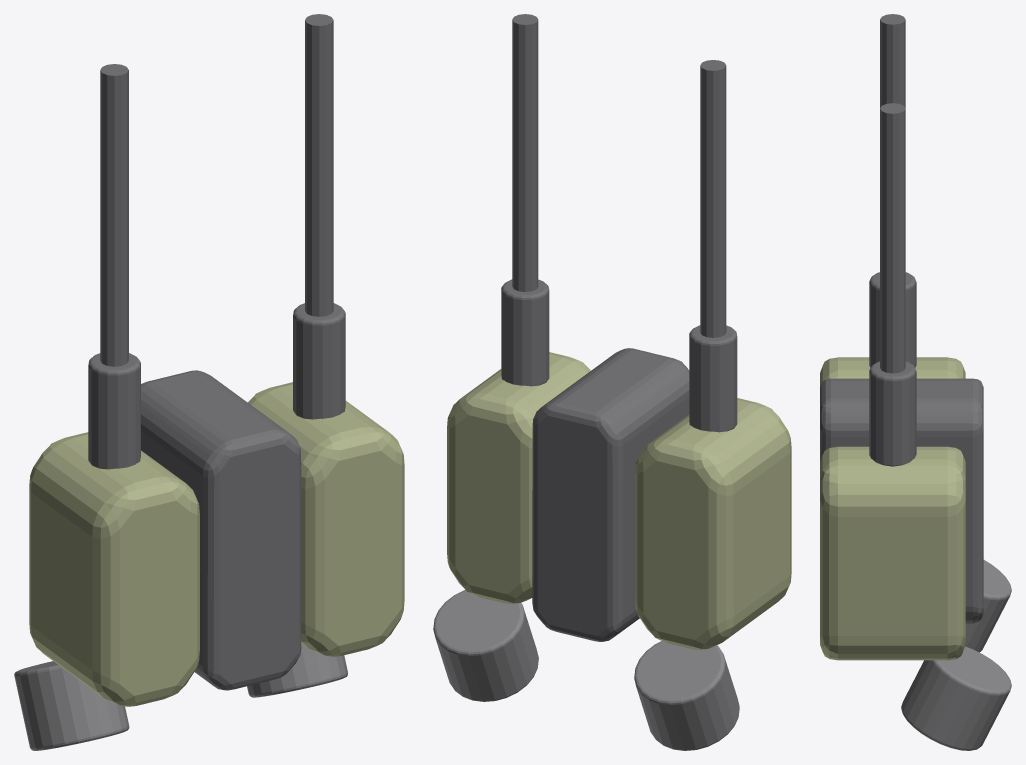
Rendered from recon_sheet_booster.glb.
The picture shows the model from 3 angles, left to right: view 1: azimuth 30°, elevation 25°; view 2: azimuth 150°, elevation 25°; view 3: azimuth 270°, elevation 25°; orthographic projection. The views are drawn at different scales.
Parts seen in each view (by area): view 1: PackSide1, PackCenter, PackSide, Mast, Mast1, Nozzle1, MastBase, MastBase1, Nozzle; view 2: PackSide1, PackCenter, PackSide, Nozzle1, Nozzle, Mast1, Mast, MastBase1, MastBase; view 3: PackSide, PackCenter, Nozzle, Mast, MastBase, Mast1, PackSide1, MastBase1, Nozzle1.
Boxes of the visible parts, x1,y1,x2,y2 form: PackSide1: (29, 432, 199, 706); PackCenter: (141, 370, 301, 690); PackSide: (248, 382, 404, 656); Mast: (305, 14, 333, 316); Mast1: (100, 64, 128, 366); Nozzle1: (14, 661, 129, 750); MastBase: (293, 303, 345, 419); MastBase1: (88, 353, 140, 469); Nozzle: (247, 643, 347, 697); PackSide1: (635, 398, 791, 650); PackCenter: (532, 348, 689, 641); PackSide: (447, 352, 590, 604); Nozzle1: (634, 641, 739, 750); Nozzle: (433, 589, 538, 701); Mast1: (700, 60, 726, 337); Mast: (512, 14, 538, 291); MastBase1: (689, 325, 737, 432); MastBase: (501, 279, 549, 386); PackSide: (820, 446, 965, 660); PackCenter: (820, 378, 983, 623); Nozzle: (901, 646, 1011, 750); Mast: (880, 103, 905, 373); MastBase: (869, 361, 916, 466); Mast1: (880, 14, 905, 107); PackSide1: (820, 357, 965, 387); MastBase1: (869, 272, 916, 367); Nozzle1: (965, 560, 1011, 652).
Bounding box in the file's own units: 1.76 × 3.83 × 1.05.
